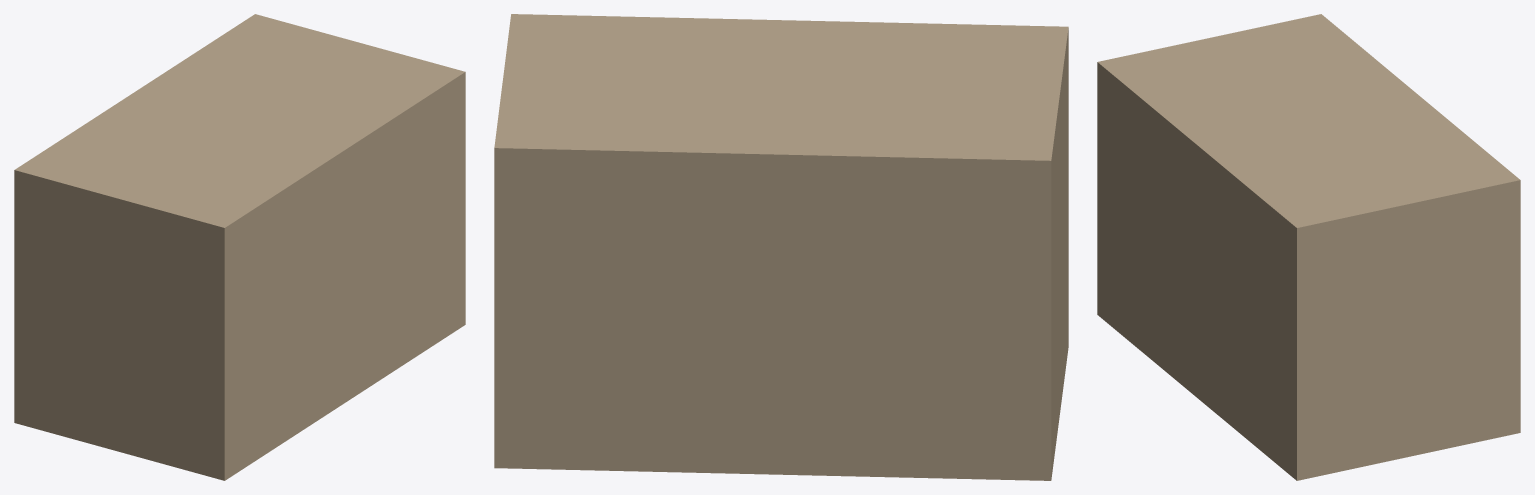
The model's file is bld_101805850.dae.
3 views of the same model, side by side, from view 1: azimuth 30°, elevation 25°; view 2: azimuth 150°, elevation 25°; view 3: azimuth 270°, elevation 25° (orthographic). The views are drawn at different scales.
Parts seen in each view (by area): view 1: bld_101805850; view 2: bld_101805850; view 3: bld_101805850.
Boxes of the visible parts, left/top/right/bottom form: bld_101805850: left=14, top=14, right=465, bottom=480; bld_101805850: left=494, top=14, right=1068, bottom=480; bld_101805850: left=1097, top=14, right=1520, bottom=480.
Bounding box in the file's own units: 14.53 × 12.14 × 8.
